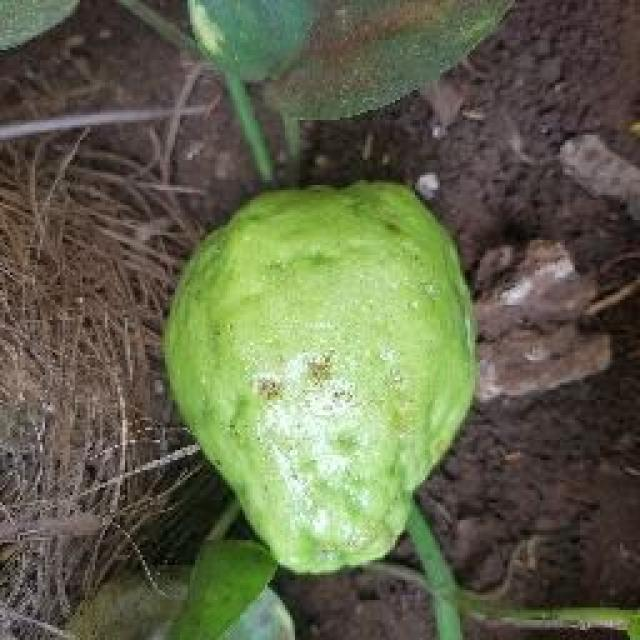Good_Guava: (162, 180, 478, 578)
